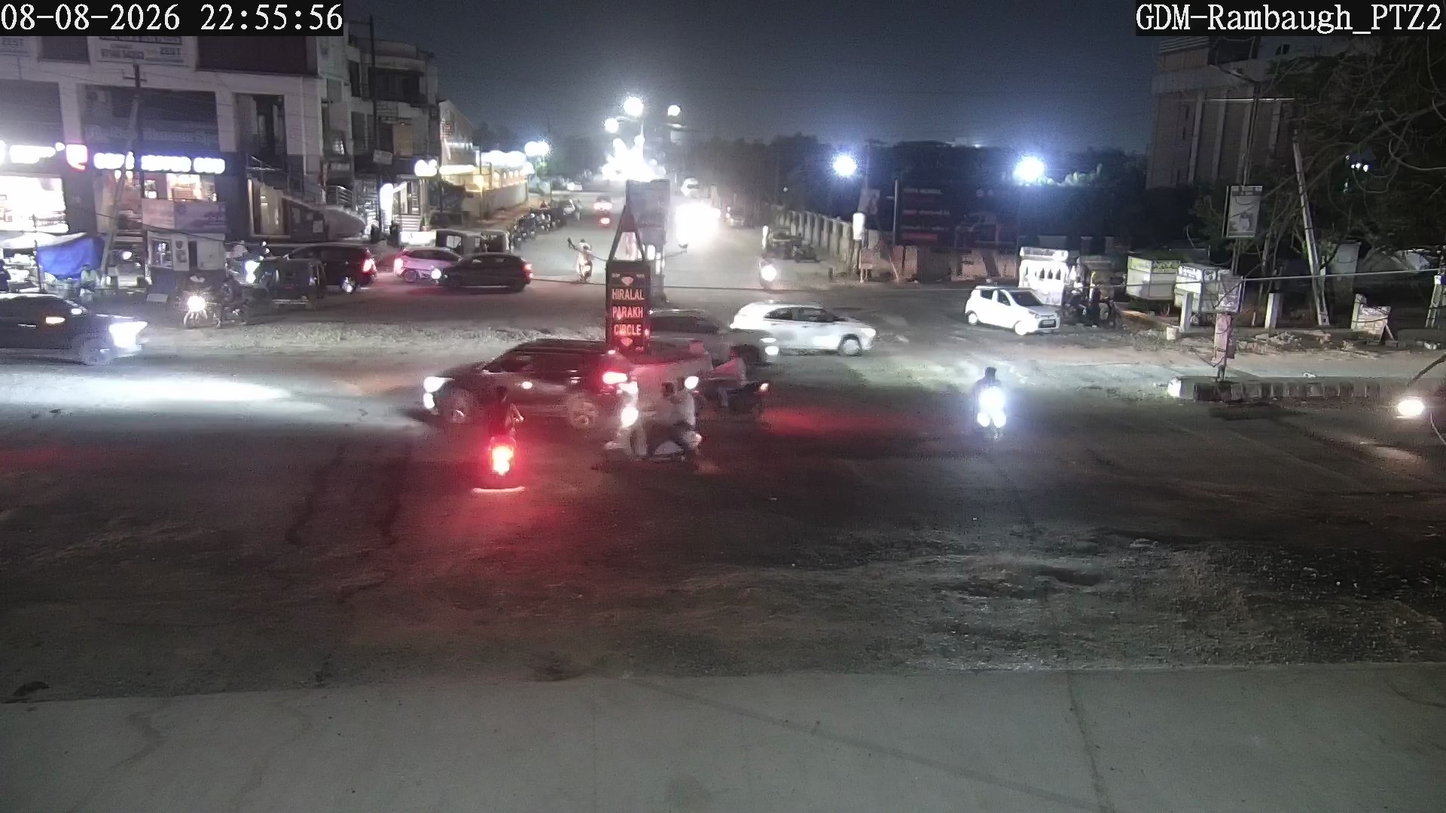car: (473, 331, 648, 441), (729, 296, 880, 361), (399, 232, 536, 294), (429, 235, 537, 297), (961, 279, 1058, 335), (391, 244, 459, 283)
two_wheeler: (600, 367, 711, 468), (627, 370, 711, 463), (609, 390, 713, 465), (601, 406, 711, 469), (961, 359, 1020, 444), (477, 404, 529, 487)
